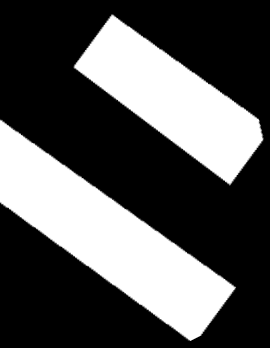parkingspot: (0, 120, 236, 341), (74, 15, 263, 185)
